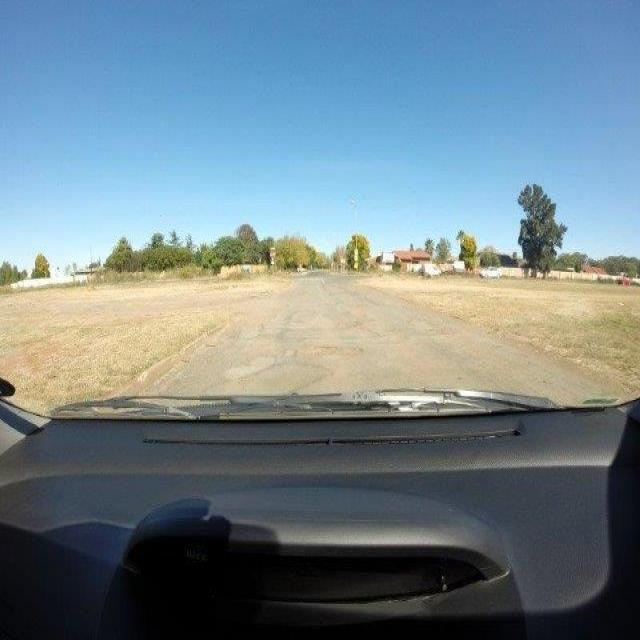jalan retak: (330, 313, 388, 342), (236, 309, 273, 343)
lubang: (295, 342, 373, 362), (430, 320, 460, 342)
